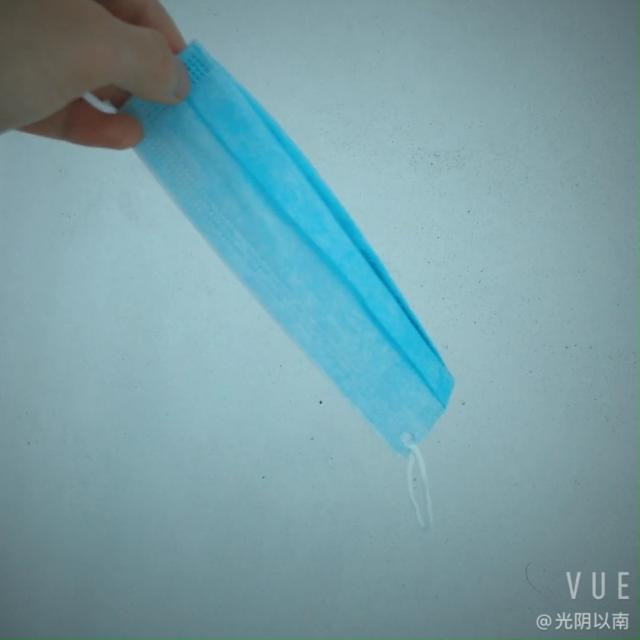non-organic waste: (117, 24, 474, 491)
